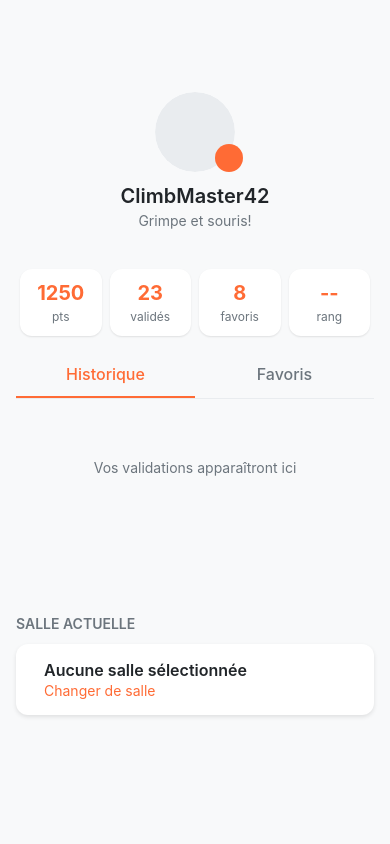
Test case: ProfileScreen › switches between tabs
Expected: the element with test id "history-placeholder" is shown, [94,459,296,476]
# Switch to favorites
Click the element with test id "tab-favorites" at (284, 374), box [257,364,312,384]
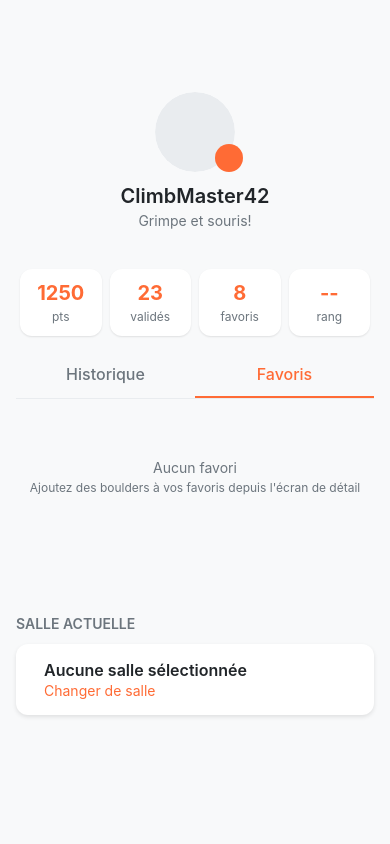
Result: the element with test id "favorites-empty" is shown at [30,459,360,495]
# Switch back to history
Click the element with test id "tab-history" at (106, 374), box [66,364,145,384]
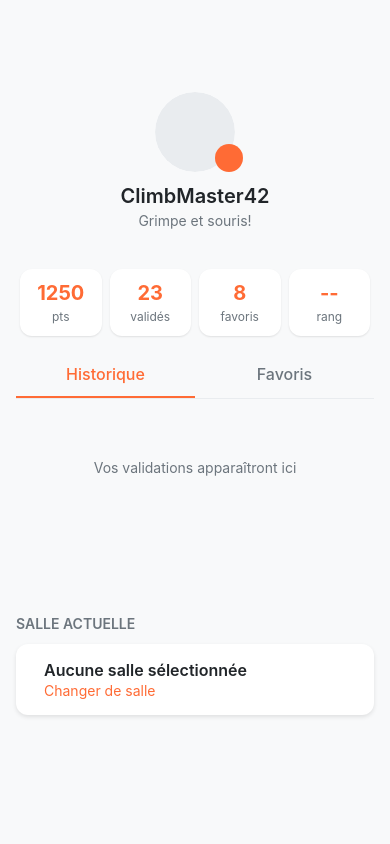
Result: the element with test id "history-placeholder" is shown at [94,459,296,476]
